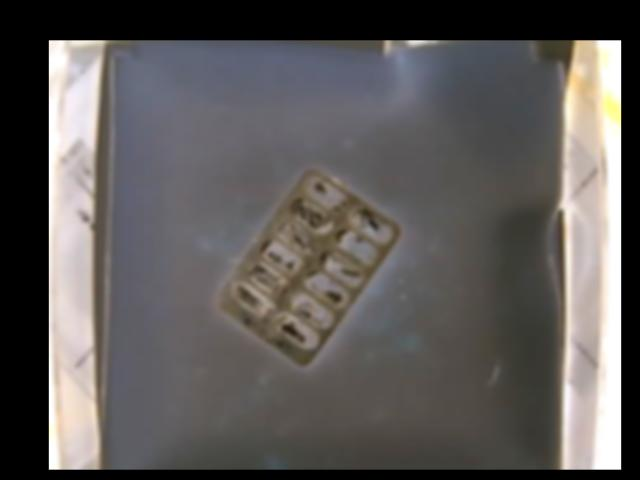Medicine: (222, 169, 401, 376)
